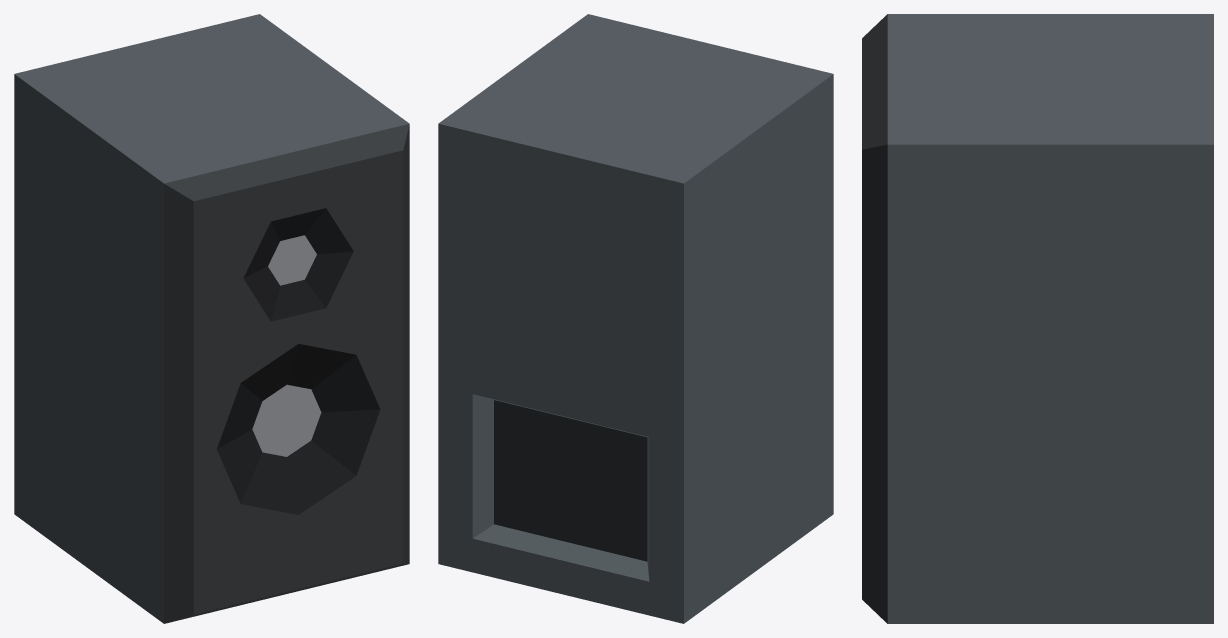
Rendered from Speaker.obj.
The picture shows the model from 3 angles, left to right: view 1: azimuth 30°, elevation 25°; view 2: azimuth 150°, elevation 25°; view 3: azimuth 270°, elevation 25°; orthographic projection. The views are drawn at different scales.
Bounding box in the file's own units: 0.5837 × 1 × 0.6649.
1 material, 1 textured.
